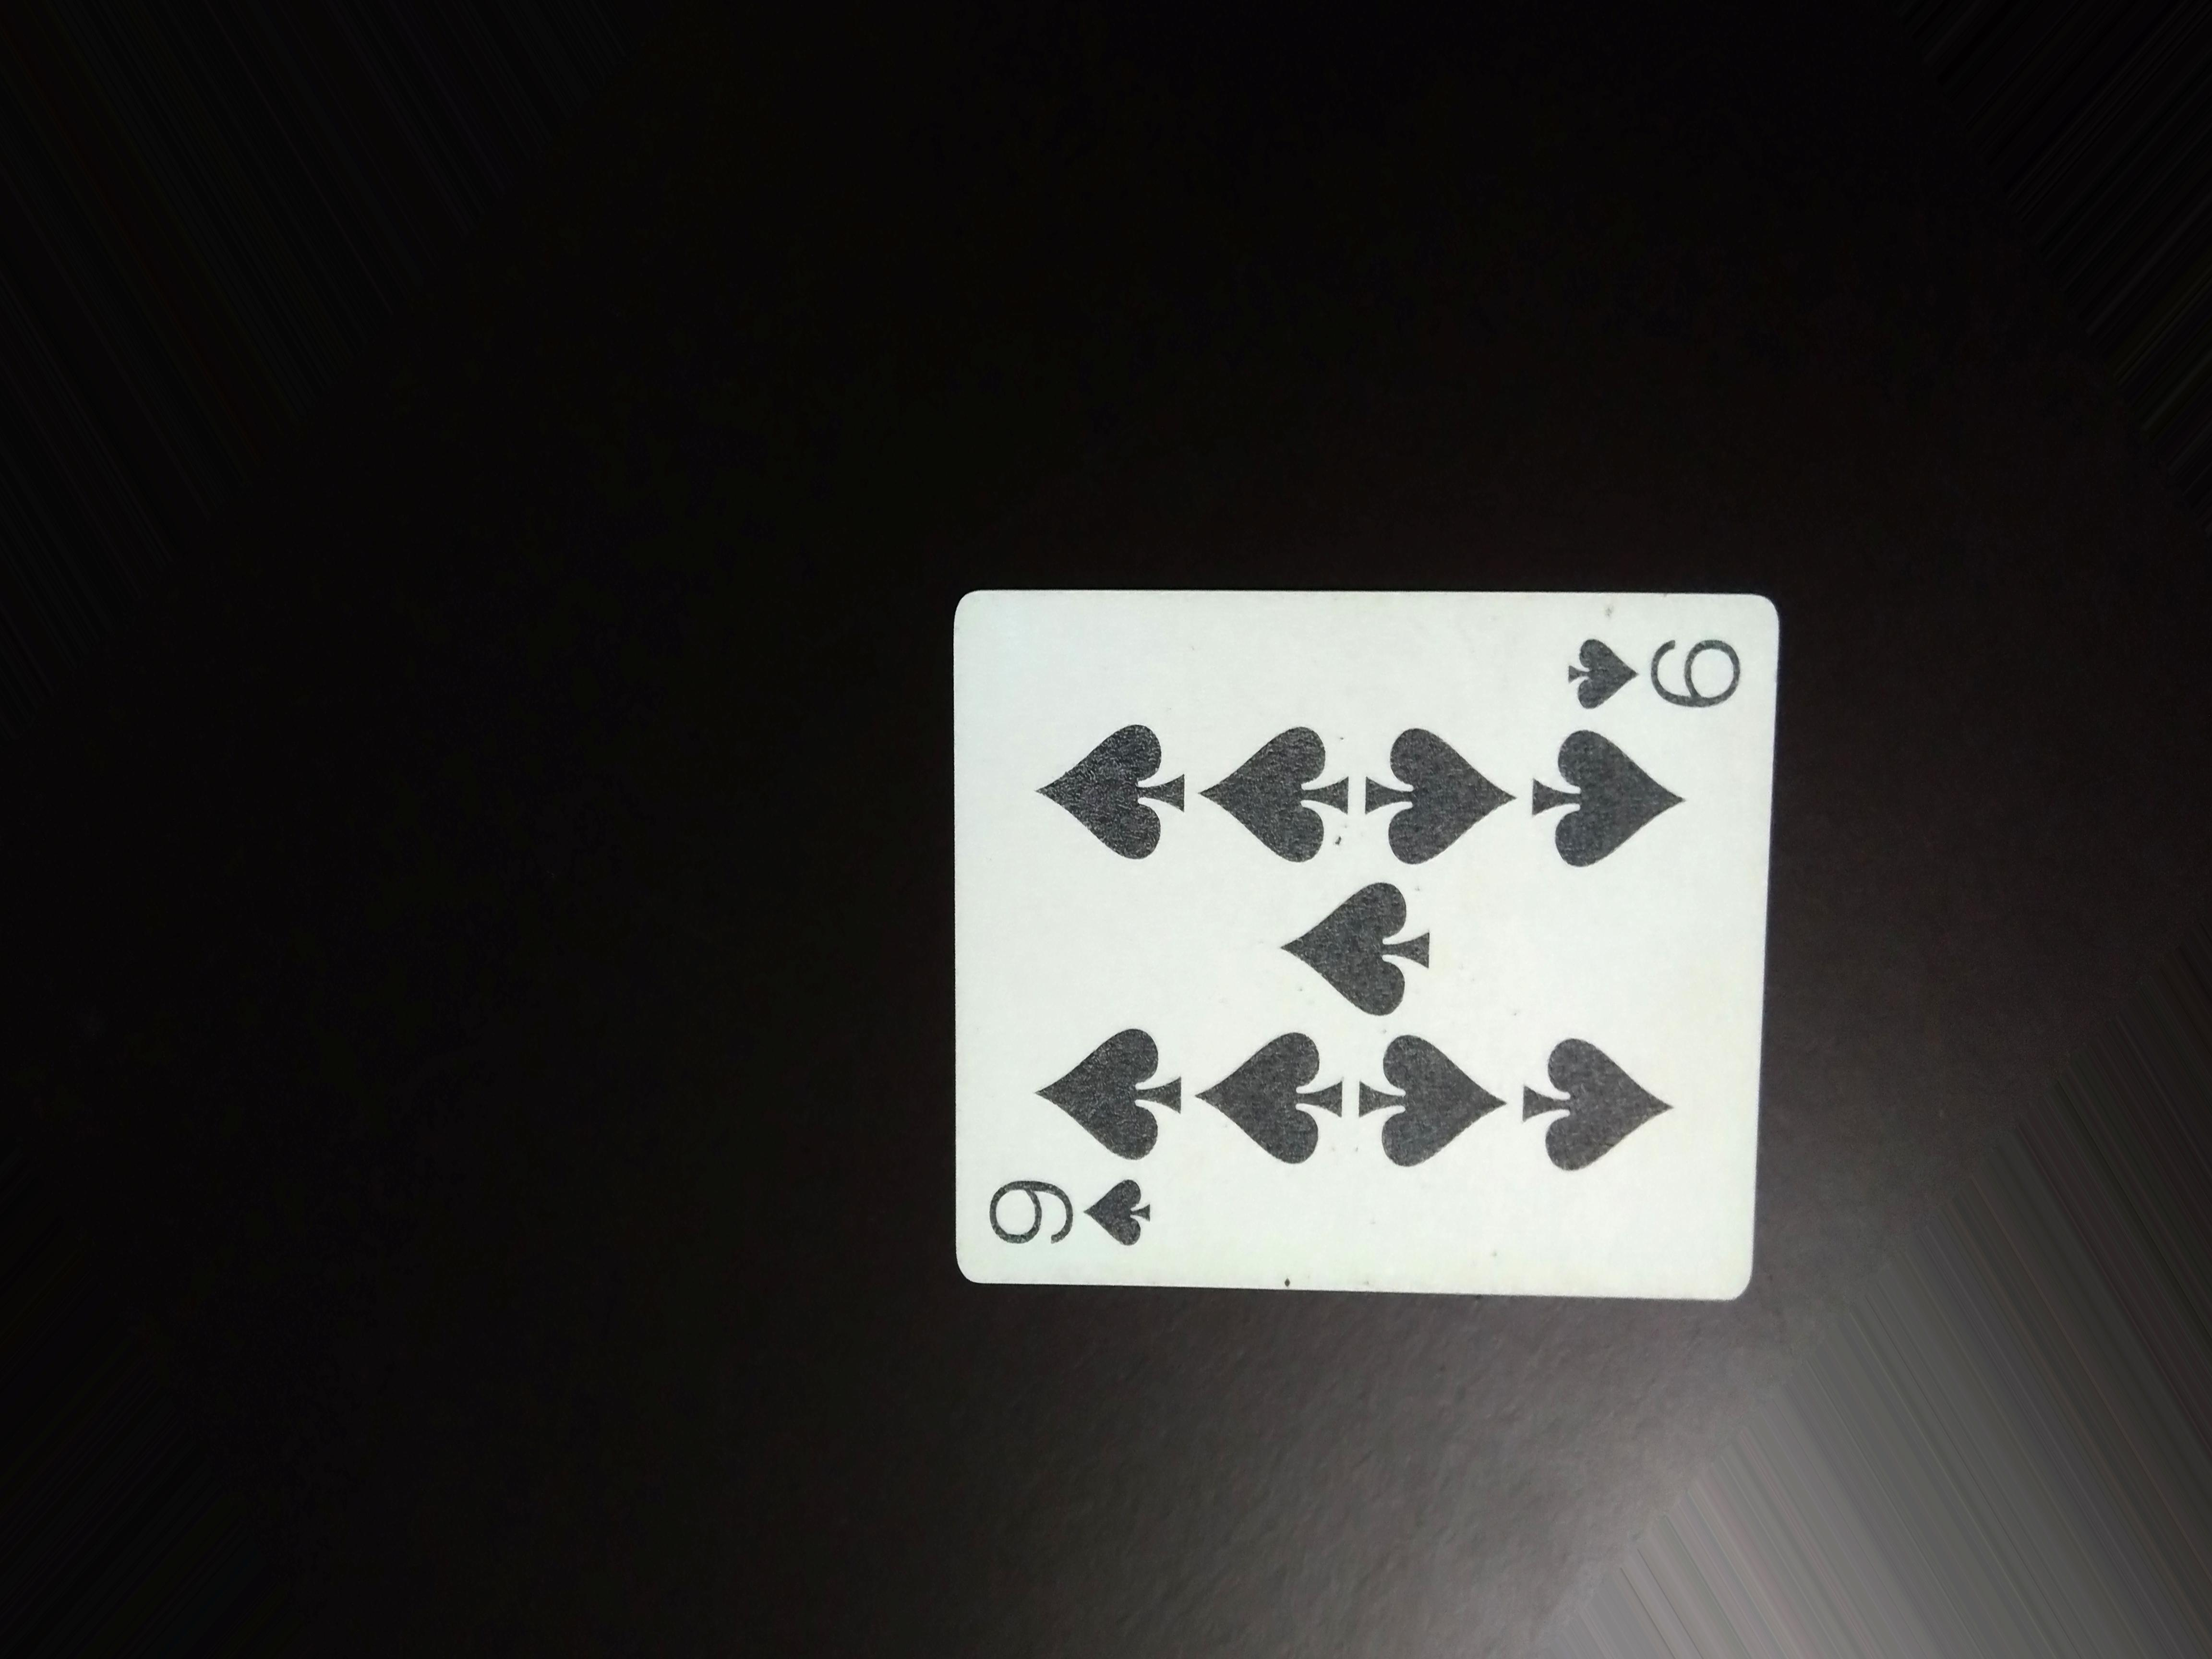9S: (1533, 615, 1777, 734)
